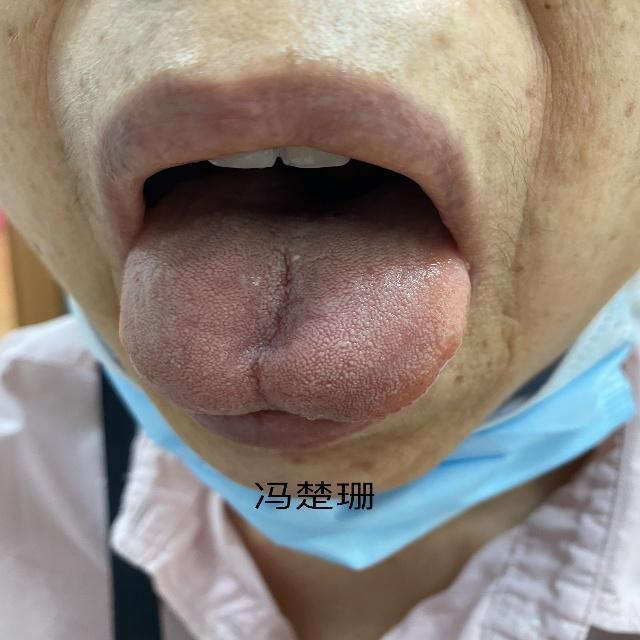baitaishe: (118, 220, 470, 423)
pangdashe: (118, 220, 470, 423)
xinfeiao: (221, 396, 321, 423)
